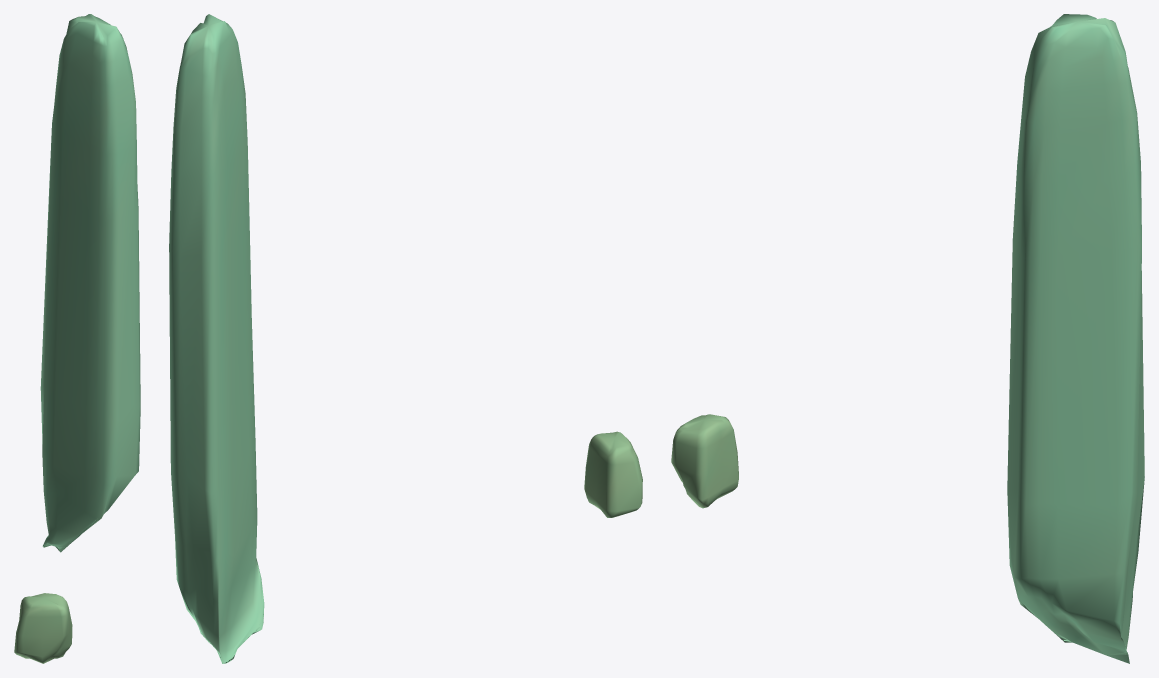
File: rudston.glb
3 views of the same model, side by side, from view 1: azimuth 30°, elevation 25°; view 2: azimuth 150°, elevation 25°; view 3: azimuth 270°, elevation 25° (orthographic). The views are drawn at different scales.
Visible parts, largest first — view 1: monolith#far, cist_stone#drop; view 2: monolith#far, cist_stone#drop; view 3: monolith#far, cist_stone#drop.
Part boxes in pixels (bbox=[...]): monolith#far: bbox=[40, 14, 140, 552]; cist_stone#drop: bbox=[14, 593, 72, 663]; monolith#far: bbox=[169, 14, 264, 663]; cist_stone#drop: bbox=[584, 431, 642, 517]; monolith#far: bbox=[1007, 14, 1144, 663]; cist_stone#drop: bbox=[671, 414, 738, 508].
Bounding box in the file's own units: 4.34 × 8.76 × 5.66.
